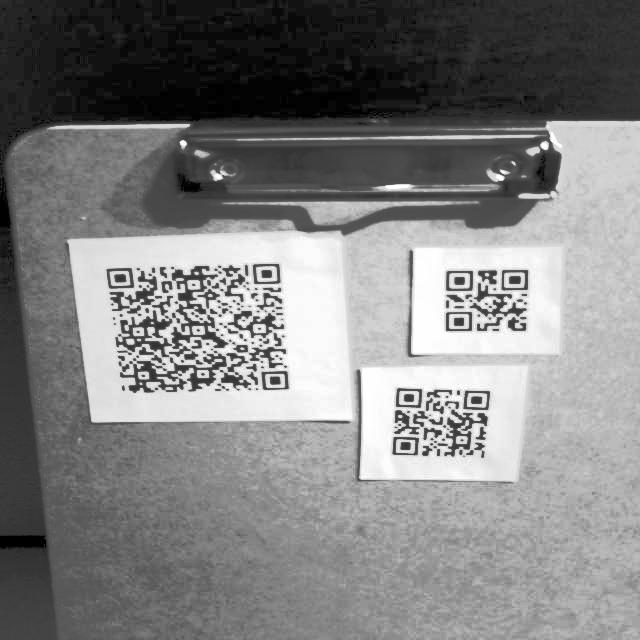qr_code: (99, 251, 304, 407), (373, 382, 507, 471), (434, 258, 539, 343)
